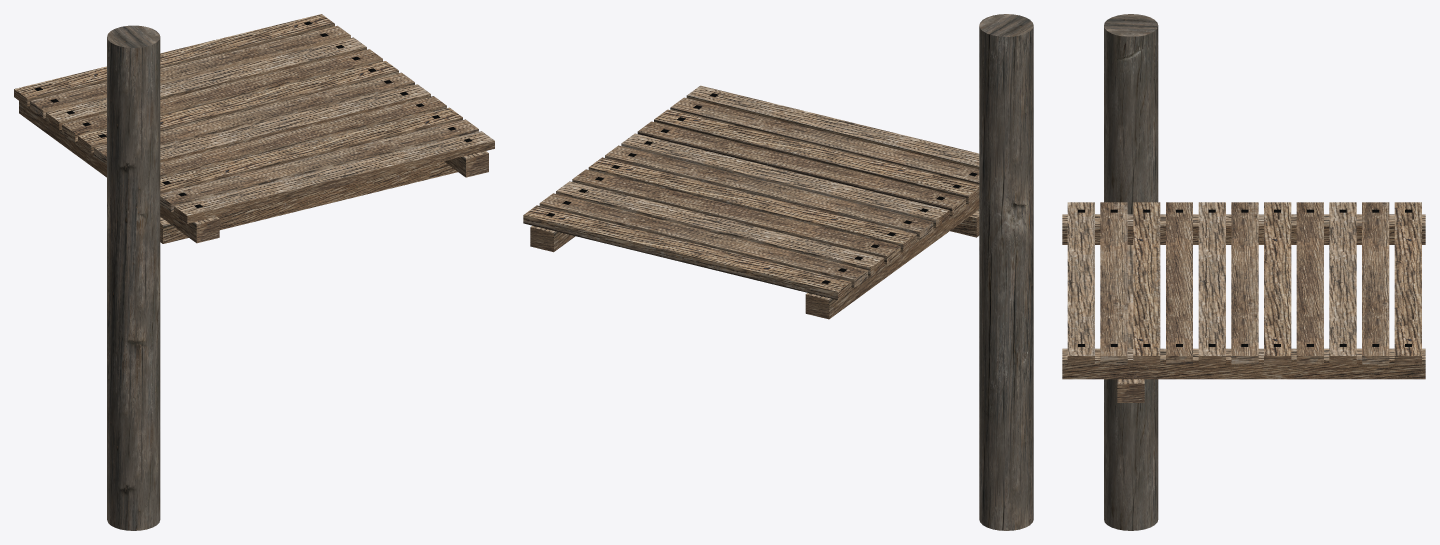
The model's file is KitPlataformas.fbx.
3 renders of one model, left to right at view 1: azimuth 30°, elevation 25°; view 2: azimuth 150°, elevation 25°; view 3: azimuth 270°, elevation 25°, orthographic. The views are drawn at different scales.
Parts seen in each view (by area): view 1: Plataforma 4x4, Columna 6x0.3, Viga 4x0.3; view 2: Plataforma 4x4, Columna 6x0.3; view 3: Plataforma 4x4, Columna 6x0.3, Viga 4x0.3.
Part boxes in pixels (bbox=[...]): Plataforma 4x4: bbox=[14, 14, 494, 243]; Columna 6x0.3: bbox=[107, 25, 160, 530]; Viga 4x0.3: bbox=[160, 161, 457, 243]; Plataforma 4x4: bbox=[523, 85, 979, 319]; Columna 6x0.3: bbox=[979, 14, 1033, 530]; Plataforma 4x4: bbox=[1062, 202, 1425, 379]; Columna 6x0.3: bbox=[1104, 14, 1158, 530]; Viga 4x0.3: bbox=[1117, 245, 1144, 402].
Size of the model in its own units: 459 by 600 by 400.
3 materials, 2 textured.
